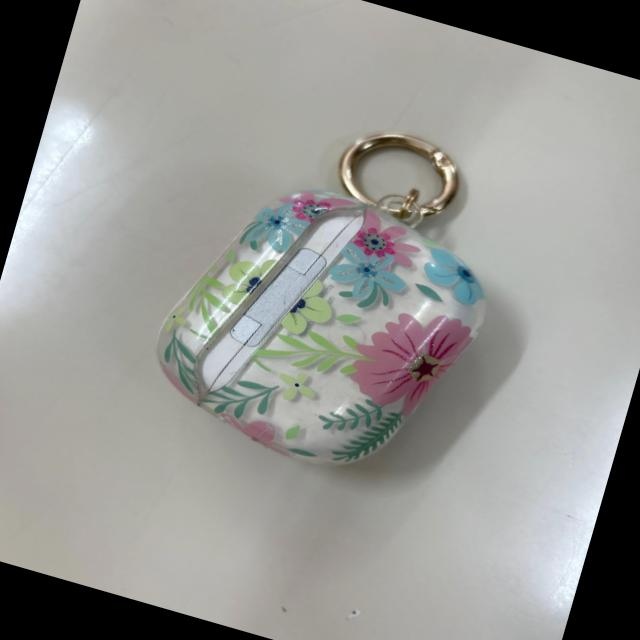inorganic: (133, 82, 528, 498)
